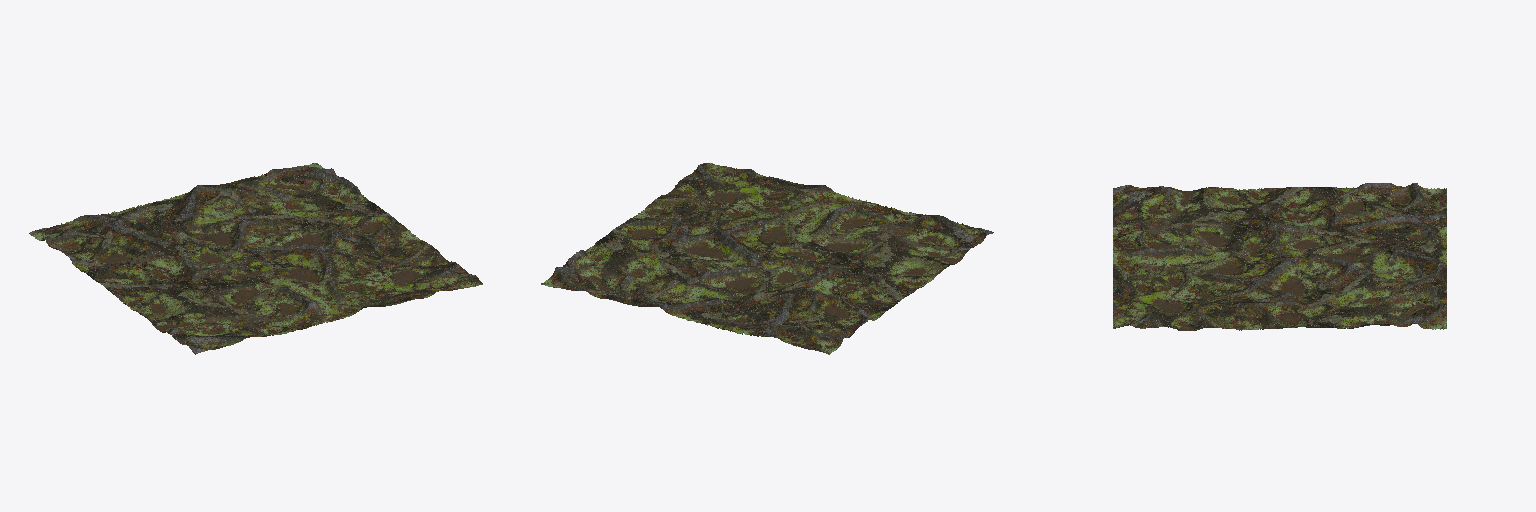
3 renders of one model, left to right at view 1: azimuth 30°, elevation 25°; view 2: azimuth 150°, elevation 25°; view 3: azimuth 270°, elevation 25°, orthographic.
Visible parts, largest first — view 1: pPlane1_displacement1; view 2: pPlane1_displacement1; view 3: pPlane1_displacement1.
Part boxes in pixels (left/top/right/bottom): pPlane1_displacement1: left=29, top=163, right=482, bottom=354; pPlane1_displacement1: left=541, top=163, right=993, bottom=354; pPlane1_displacement1: left=1113, top=183, right=1446, bottom=330.
Size of the model in its own units: 20 by 0.657 by 20.
1 materials, 1 textured.